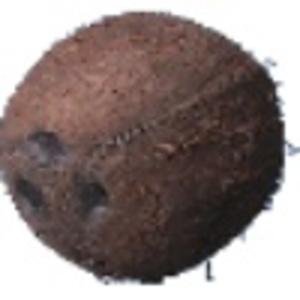coco: (1, 11, 300, 284)
